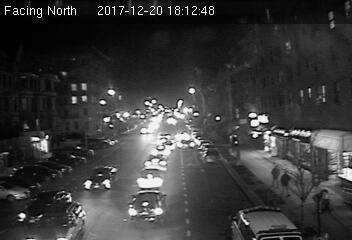car: (126, 188, 167, 223), (84, 165, 118, 191), (135, 168, 165, 191), (142, 152, 168, 171), (202, 149, 220, 164), (178, 139, 195, 148)
police: (225, 202, 299, 240)
